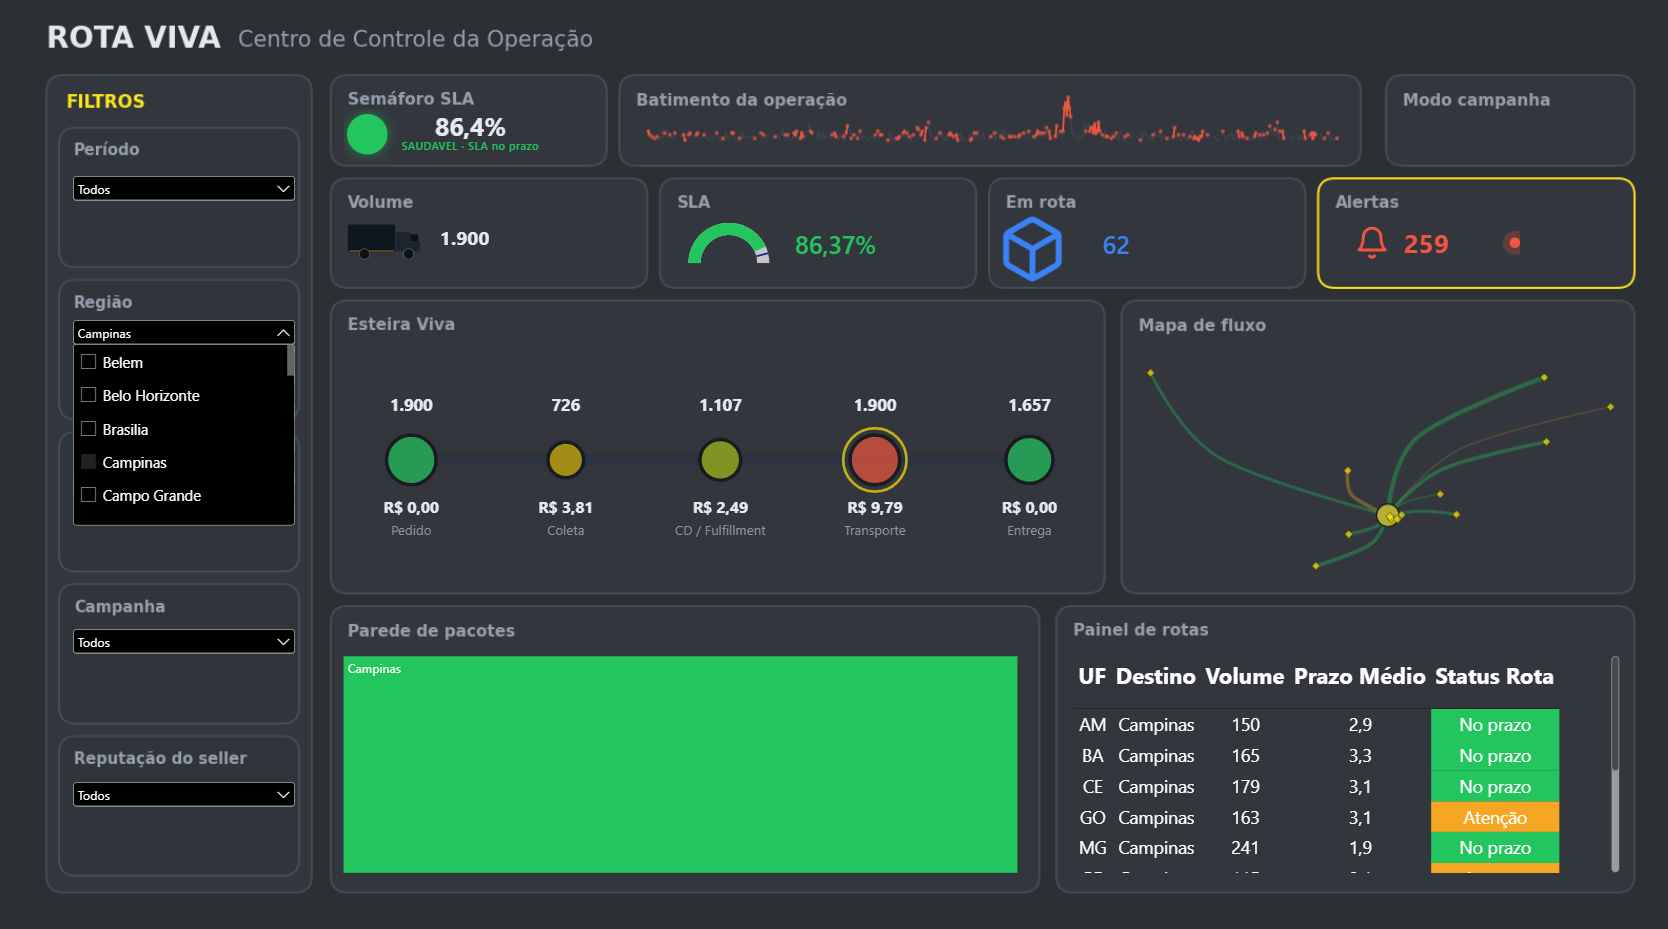

Layout of this report page (visuals, bound fields, positions):
{"tool":"powerbi","page":{"name":"Página 1","canvas":[1920,1080],"ordinal":0},"visuals":[{"type":"htmlContent443BE3AD55E043BF878BED274D3A6855","fields":{"content":["medida.Farol SLA HTML"]},"box":[378.3,114.5,335.6,89.2],"z":0},{"type":"deneb7E15AEF80B9E4D4F8E12924291ECE89A","fields":{"dataset":["dim_calendario.data","medida.Total Envios","medida.Abaixo Meta"]},"box":[713.7,92.8,839.4,96.7],"z":1000},{"type":"cardVisual","fields":{"Data":["medida.Campanha Ativa"]},"box":[1583.7,114.2,279.8,76.1],"z":2000},{"type":"slicer","fields":{"Values":["fato_envios.campanha"]},"box":[79.9,715.7,262.7,43.8],"z":3000},{"type":"htmlContent443BE3AD55E043BF878BED274D3A6855","fields":{"content":["medida.Caminhao HTML"]},"box":[378.8,234.1,359.8,95.2],"z":4000},{"type":"slicer","fields":{"Values":["dim_modalidade.modalidade"]},"box":[79.9,540.6,262.7,43.8],"z":5000},{"type":"gauge","fields":{"MaxValue":["medida.Máximo"],"TargetValue":["medida.Destino/Target"],"Y":["medida.SLA No Prazo %"]},"box":[753.8,243.7,158,76.1],"z":6000},{"type":"cardVisual","fields":{"Data":["medida.SLA No Prazo %"]},"box":[892.8,243.7,133.2,76.1],"z":7000},{"type":"htmlContent443BE3AD55E043BF878BED274D3A6855","fields":{"content":["medida.Icone_DAX"]},"box":[1111.7,234.1,131.3,129.4],"z":8000},{"type":"cardVisual","fields":{"Data":["medida.Em Rota"]},"box":[1243,243.7,133.2,76.1],"z":9000},{"type":"htmlContent443BE3AD55E043BF878BED274D3A6855","fields":{"content":["medida.Alerta HTML"]},"box":[1528.5,243.7,220.8,85.7],"z":10000},{"type":"deneb7E15AEF80B9E4D4F8E12924291ECE89A","fields":{"dataset":["fato_envios.id_cd","dim_cd.latitude","dim_cd.longitude","fato_envios.cidade_destino","dim_cidade (1).long_dest","dim_cidade (1).lat_dest","medida.Total Envios","medida.SLA100"]},"box":[1284.9,403.5,578.7,276],"z":11000},{"type":"slicer","fields":{"Values":["dim_calendario.data.Variation.Hierarquia de datas.Ano","dim_calendario.data.Variation.Hierarquia de datas.Mês"]},"box":[79.9,199.9,262.7,43.8],"z":12000},{"type":"deneb7E15AEF80B9E4D4F8E12924291ECE89A","fields":{"dataset":["dim_etapa.Etapa","dim_etapa.Ordem","medida.Vol Etapa","medida.Custo Envio Etapa","medida.% Custo Etapa"]},"box":[379.3,384.5,886.8,295.6],"z":13000},{"type":"slicer","fields":{"Values":["fato_envios.cidade_destino"]},"box":[79.9,363.6,262.7,43.8],"z":15000},{"type":"tableEx","fields":{"Values":["dim_cd.uf","fato_envios.cidade_destino","medida.Volume Rotulo","medida.Prazo Medio (dias)","medida.Status Rota"]},"box":[1208.7,738.6,654.8,276],"z":16000},{"type":"slicer","fields":{"Values":["dim_seller.reputacao"]},"box":[79.9,890.8,262.7,43.8],"z":17000},{"type":"treemap","fields":{"Group":["fato_envios.regiao_destino","fato_envios.cidade_destino"],"Values":["medida.Impacto Atraso"]},"box":[377.6,738.2,799.7,276.8],"z":17001}]}

Visuals, with their boxes in screenshot pixels (x1, y1, x2, y2), scaled from the page's 1920x1080 canvas onto the 1668x929 screenshot:
htmlContent443BE3AD55E043BF878BED274D3A6855 - medida.Farol SLA HTML: <bbox>329, 98, 620, 175</bbox>
deneb7E15AEF80B9E4D4F8E12924291ECE89A - dim_calendario.data x medida.Total Envios: <bbox>620, 80, 1349, 163</bbox>
cardVisual - medida.Campanha Ativa: <bbox>1376, 98, 1619, 164</bbox>
slicer - fato_envios.campanha: <bbox>69, 616, 298, 653</bbox>
htmlContent443BE3AD55E043BF878BED274D3A6855 - medida.Caminhao HTML: <bbox>329, 201, 642, 283</bbox>
slicer - dim_modalidade.modalidade: <bbox>69, 465, 298, 503</bbox>
gauge - medida.Máximo x medida.Destino/Target: <bbox>655, 210, 792, 275</bbox>
cardVisual - medida.SLA No Prazo %: <bbox>776, 210, 891, 275</bbox>
htmlContent443BE3AD55E043BF878BED274D3A6855 - medida.Icone_DAX: <bbox>966, 201, 1080, 313</bbox>
cardVisual - medida.Em Rota: <bbox>1080, 210, 1196, 275</bbox>
htmlContent443BE3AD55E043BF878BED274D3A6855 - medida.Alerta HTML: <bbox>1328, 210, 1520, 283</bbox>
deneb7E15AEF80B9E4D4F8E12924291ECE89A - fato_envios.id_cd x dim_cd.latitude: <bbox>1116, 347, 1619, 584</bbox>
slicer - dim_calendario.data.Variation.Hierarquia de datas.Ano x dim_calendario.data.Variation.Hierarquia de datas.Mês: <bbox>69, 172, 298, 210</bbox>
deneb7E15AEF80B9E4D4F8E12924291ECE89A - dim_etapa.Etapa x dim_etapa.Ordem: <bbox>330, 331, 1100, 585</bbox>
slicer - fato_envios.cidade_destino: <bbox>69, 313, 298, 350</bbox>
tableEx - dim_cd.uf x fato_envios.cidade_destino: <bbox>1050, 635, 1619, 873</bbox>
slicer - dim_seller.reputacao: <bbox>69, 766, 298, 804</bbox>
treemap - fato_envios.regiao_destino x fato_envios.cidade_destino: <bbox>328, 635, 1023, 873</bbox>
